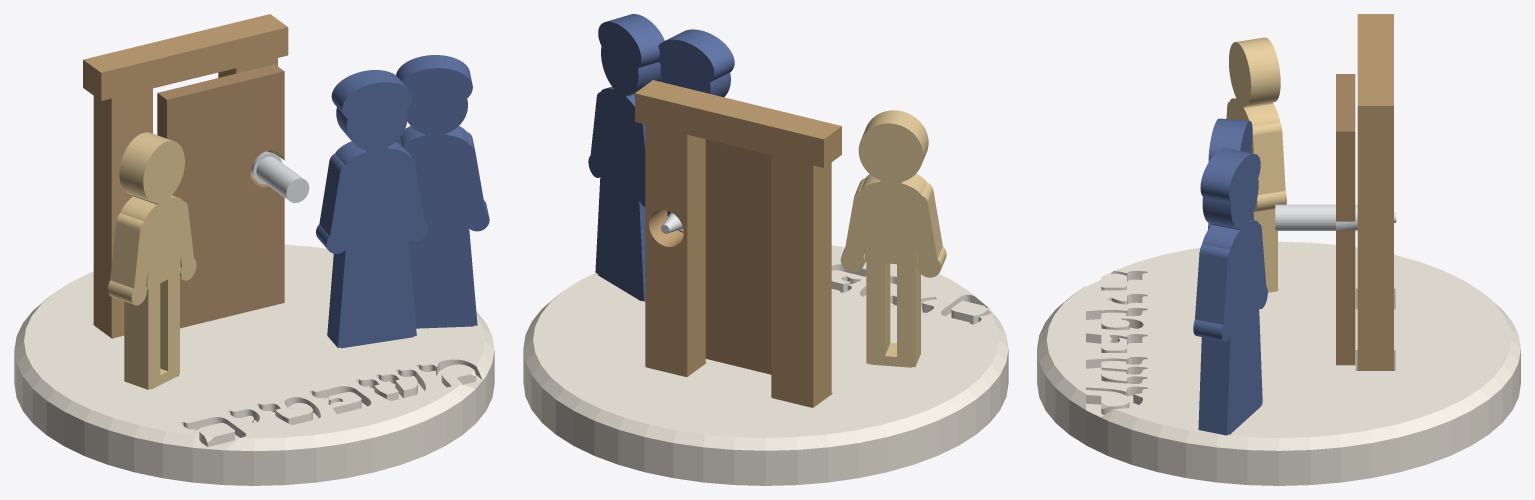
Rendered from mishpatim.glb.
3 renders of one model, left to right at view 1: azimuth 30°, elevation 25°; view 2: azimuth 150°, elevation 25°; view 3: azimuth 270°, elevation 25°, orthographic.
Visible parts, largest first — view 1: stage, door, judge-1, doorway, judge-2, servant, awl; view 2: stage, doorway, servant, door, judge-2, judge-1; view 3: stage, judge-2, doorway, servant, door, awl, judge-1.
Part boxes in pixels (x1,y1,x2,y2): stage: (14,244,494,485); door: (157,64,284,328); judge-1: (316,70,427,348); doorway: (83,14,288,338); judge-2: (396,55,489,328); servant: (107,132,196,389); awl: (250,151,309,202); stage: (523,245,1008,485); doorway: (635,80,841,407); servant: (840,110,946,367); door: (669,139,771,374); judge-2: (588,14,664,301); judge-1: (658,29,734,216); stage: (1037,241,1520,485); judge-2: (1193,148,1267,435); doorway: (1357,14,1393,370); servant: (1226,37,1286,292); door: (1336,74,1355,365); awl: (1275,204,1396,230); judge-1: (1208,118,1253,229).
Bounding box in the file's own units: 40 × 28.6 × 40.
